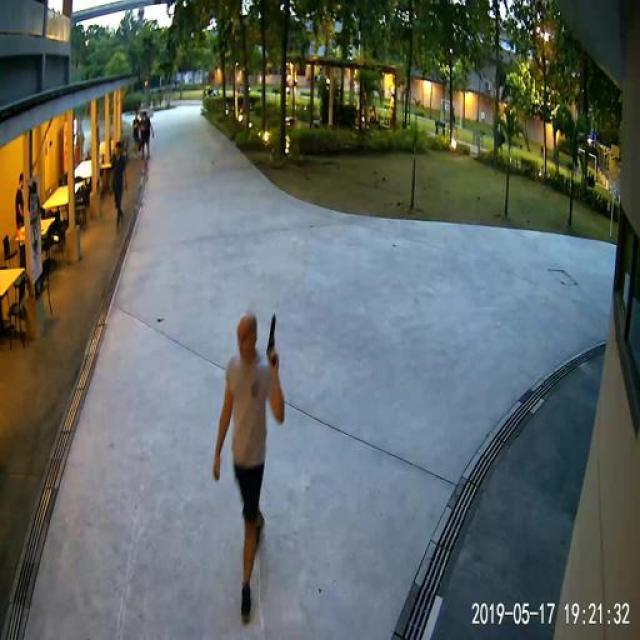Gun: (258, 308, 296, 378)
